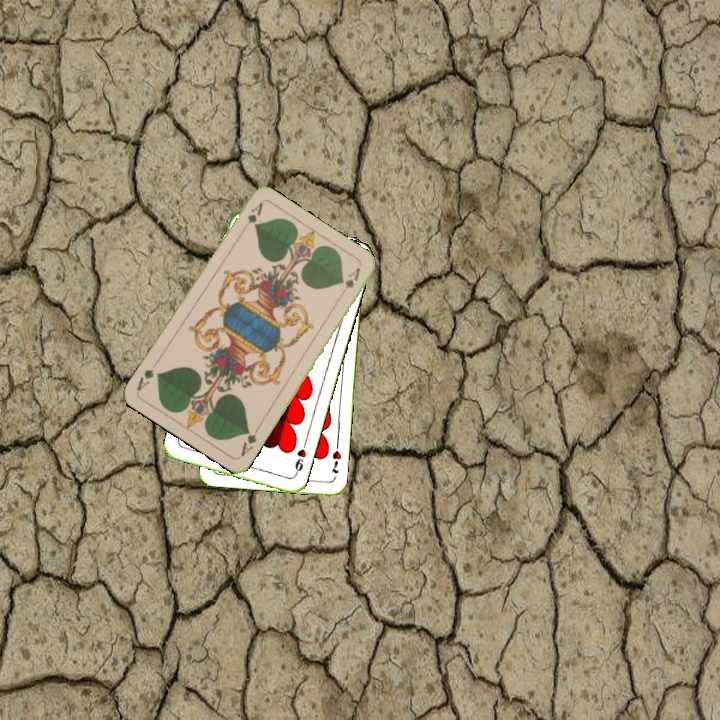GA: (237, 199, 266, 235), (237, 422, 263, 459)
H7: (327, 446, 344, 476)
H9: (290, 438, 309, 478)
